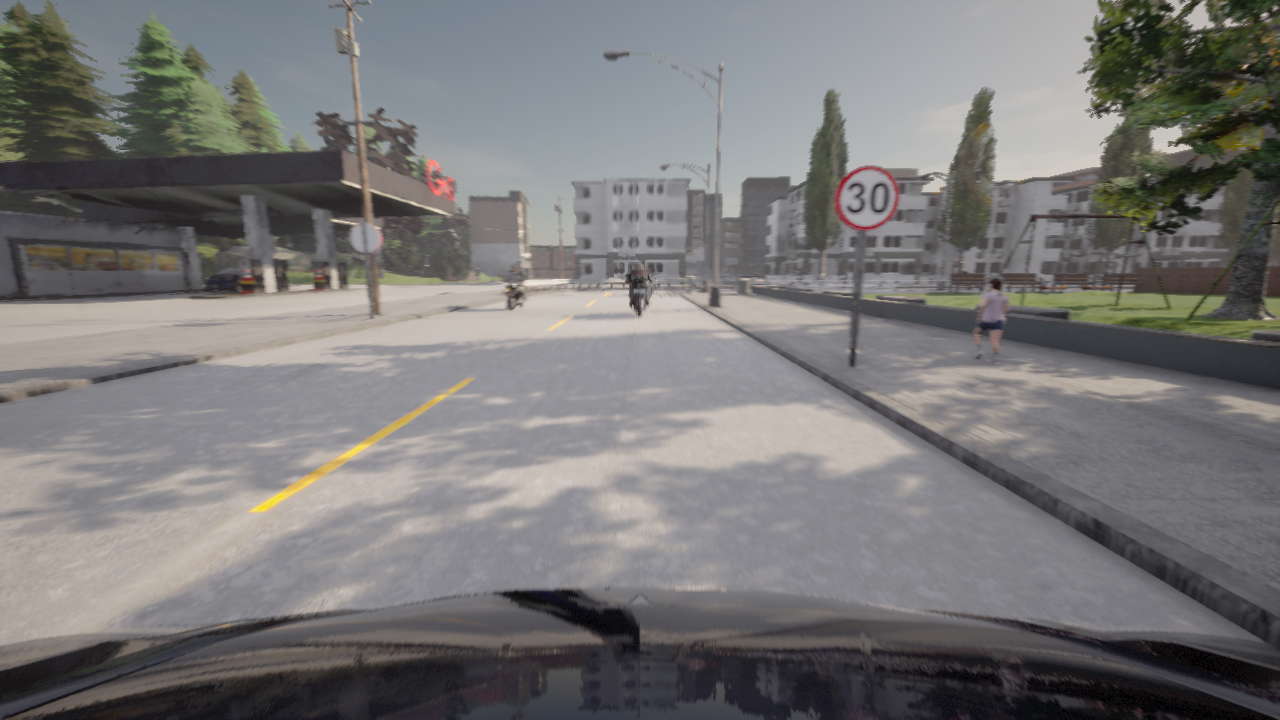cyclist: (0, 588, 1279, 719), (625, 274, 653, 318), (498, 273, 526, 311), (205, 267, 240, 292), (961, 272, 980, 282), (649, 274, 657, 294), (693, 271, 719, 277), (720, 272, 739, 277), (792, 277, 805, 279)
pedestrian: (973, 278, 1008, 364)
